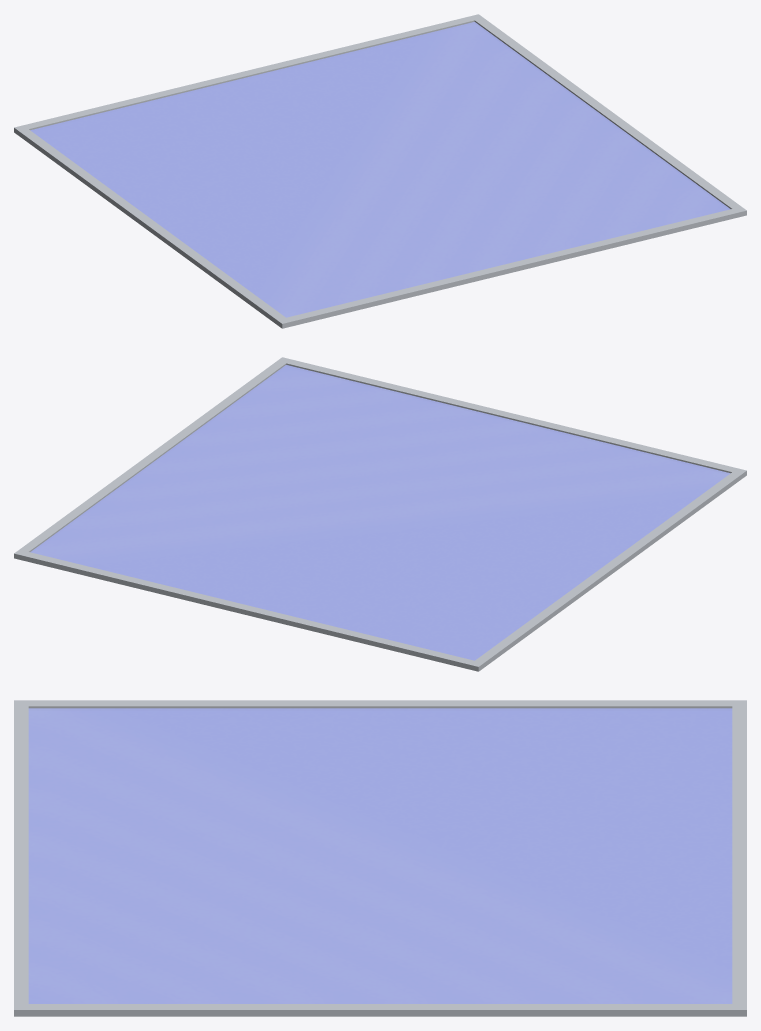
3 views of the same model, one above another, from view 1: azimuth 30°, elevation 25°; view 2: azimuth 150°, elevation 25°; view 3: azimuth 270°, elevation 25° (orthographic). The views are drawn at different scales.
Parts seen in each view (by area): view 1: glass, frame; view 2: glass, frame; view 3: glass, frame.
Boxes of the visible parts, x1,y1,x2,y2 form: glass: [30, 22, 730, 317]; frame: [14, 14, 746, 328]; glass: [30, 365, 730, 660]; frame: [14, 357, 746, 671]; glass: [28, 708, 732, 1003]; frame: [14, 700, 746, 1016].
Size of the model in its own units: 1 by 0.01 by 1.
Materials: 2 (1 with a texture image).
